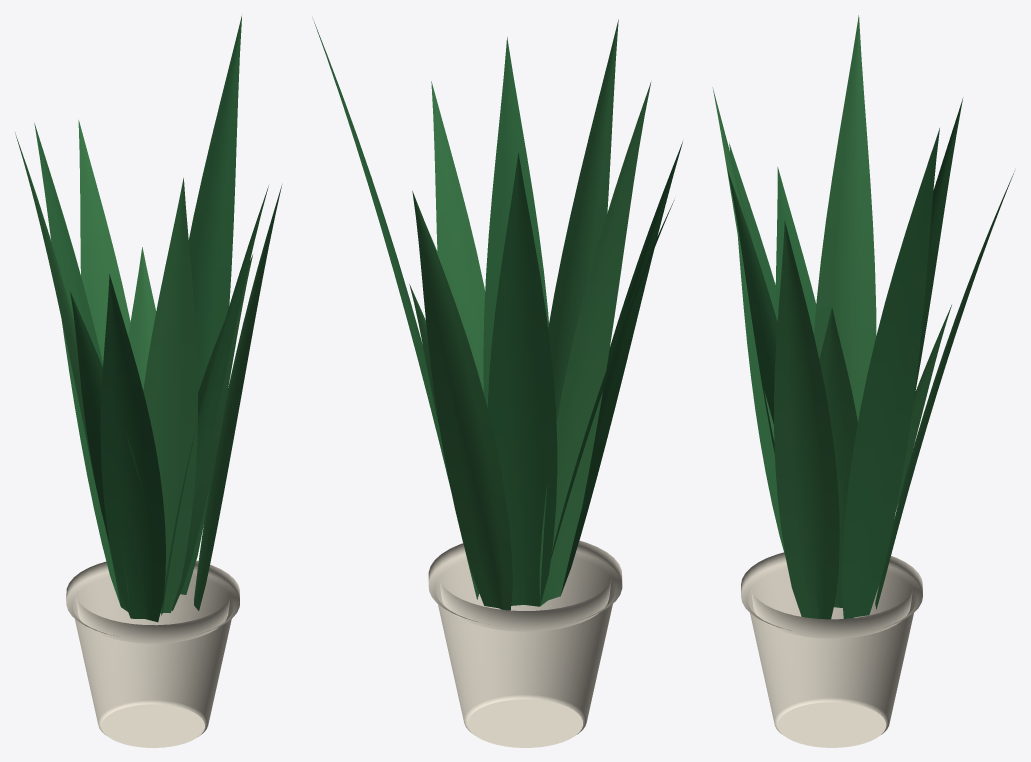
The model's file is snake_cream_S.glb.
The picture shows the model from 3 angles, left to right: view 1: azimuth 30°, elevation 25°; view 2: azimuth 150°, elevation 25°; view 3: azimuth 270°, elevation 25°; orthographic projection. The views are drawn at different scales.
Visible parts, largest first — view 1: Snake Plant (cream, S); view 2: Snake Plant (cream, S); view 3: Snake Plant (cream, S).
Part boxes in pixels (x1,y1,x2,y2): Snake Plant (cream, S): (15, 16, 282, 747); Snake Plant (cream, S): (312, 18, 682, 747); Snake Plant (cream, S): (712, 15, 1014, 747).
Bounding box in the file's own units: 0.2191 × 0.5024 × 0.2066.
